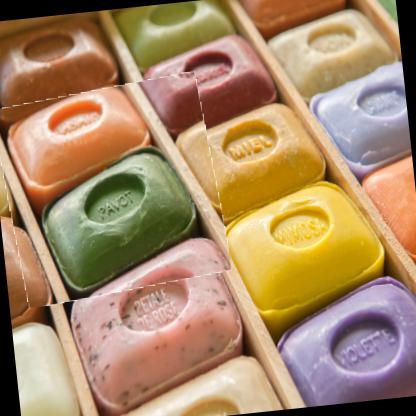soap: (0, 74, 230, 307)
